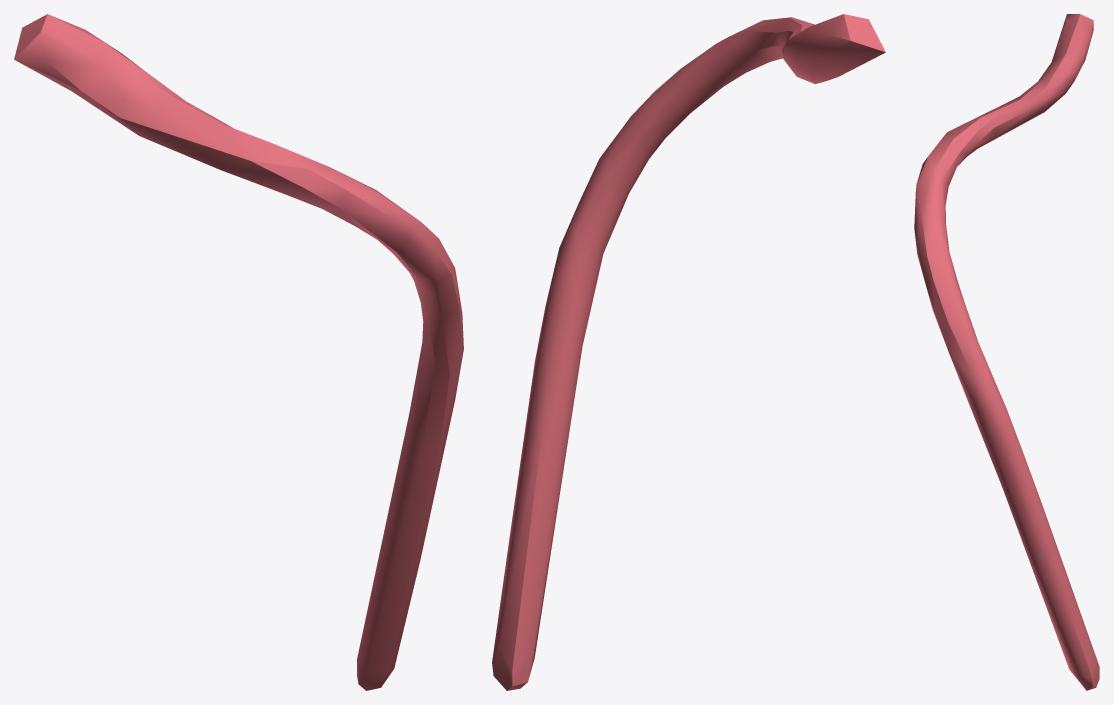
The model's file is fma50532_fj1657.glb.
The picture shows the model from 3 angles, left to right: view 1: azimuth 30°, elevation 25°; view 2: azimuth 150°, elevation 25°; view 3: azimuth 270°, elevation 25°; orthographic projection. The views are drawn at different scales.
Visible parts, largest first — view 1: FMA50532_FJ1657; view 2: FMA50532_FJ1657; view 3: FMA50532_FJ1657.
Part boxes in pixels (<box>): FMA50532_FJ1657: <box>14,14,463,690</box>; FMA50532_FJ1657: <box>492,14,885,690</box>; FMA50532_FJ1657: <box>914,14,1099,690</box>.
Bounding box in the file's own units: 0.0149 × 0.0276 × 0.00835.
